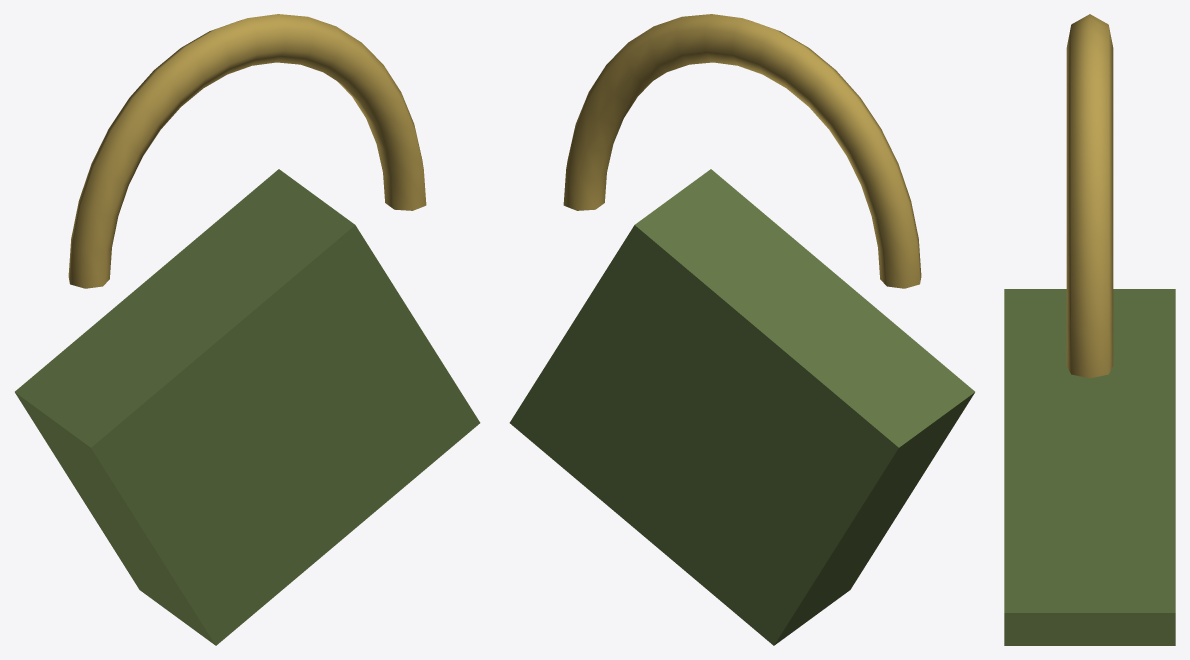
Rendered from off_14_herbal_satchel.glb.
3 views of the same model, side by side, from view 1: azimuth 30°, elevation 25°; view 2: azimuth 150°, elevation 25°; view 3: azimuth 270°, elevation 25° (orthographic). The views are drawn at different scales.
Parts seen in each view (by area): view 1: satchel, strap; view 2: satchel, strap; view 3: satchel, strap.
Boxes of the visible parts, x1=… form: satchel: x1=15, y1=169, x2=480, y2=645; strap: x1=68, y1=14, x2=426, y2=288; satchel: x1=509, y1=169, x2=974, y2=645; strap: x1=563, y1=14, x2=921, y2=288; satchel: x1=1004, y1=289, x2=1175, y2=645; strap: x1=1066, y1=14, x2=1113, y2=378.
Bounding box in the file's own units: 0.588 × 0.8408 × 0.2.
